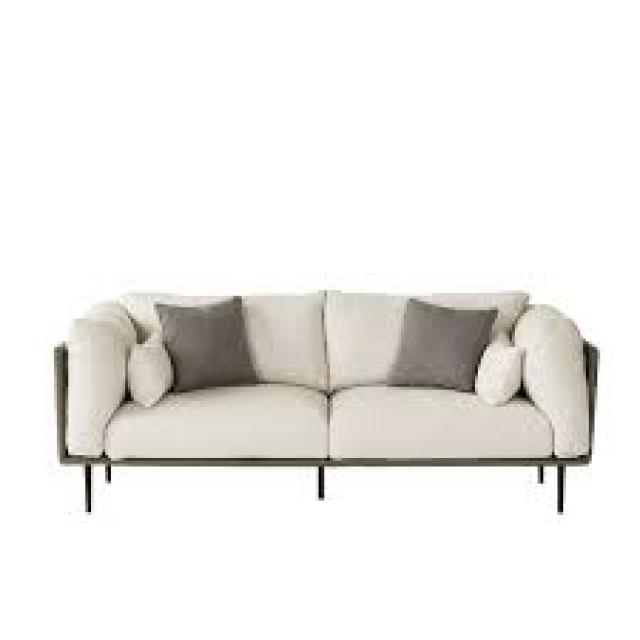Sofa: (12, 266, 634, 550)
